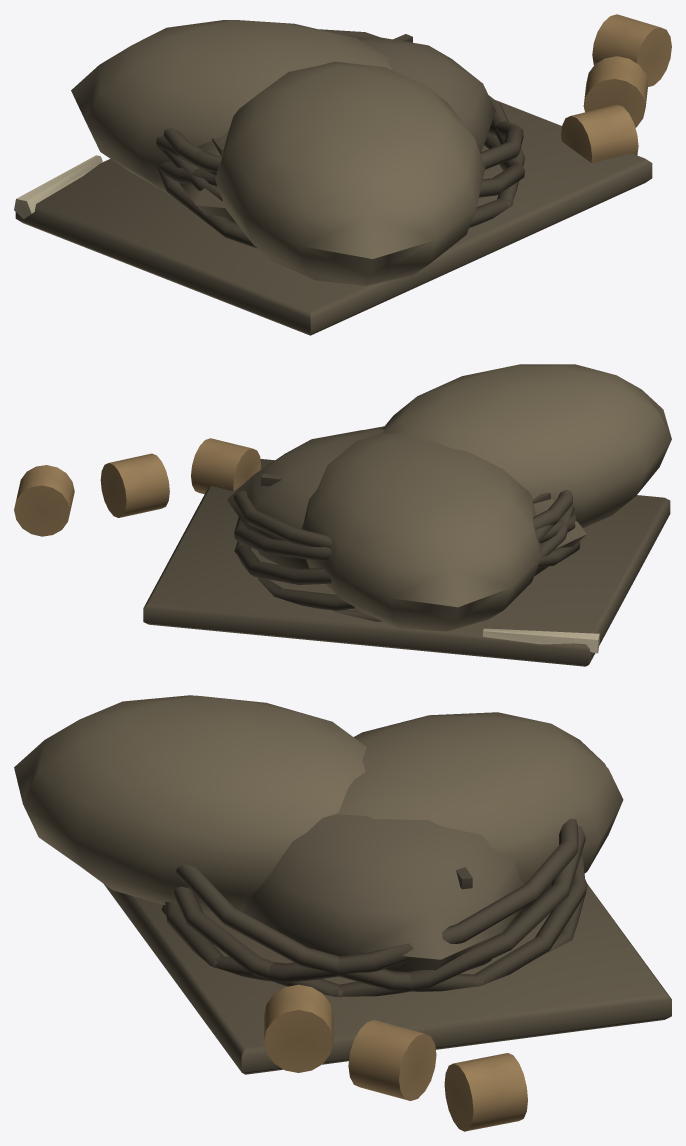
File: net_bundle_b.glb
3 views of the same model, one above another, from view 1: azimuth 30°, elevation 25°; view 2: azimuth 150°, elevation 25°; view 3: azimuth 270°, elevation 25° (orthographic). The views are drawn at different scales.
Visible parts, largest first — view 1: Surface; view 2: Surface; view 3: Surface.
Boxes of the visible parts, <box> form: Surface: <box>14,14,671,335</box>; Surface: <box>14,364,671,666</box>; Surface: <box>14,695,671,1131</box>.
Bounding box in the file's own units: 2.23 × 0.6053 × 1.75.
